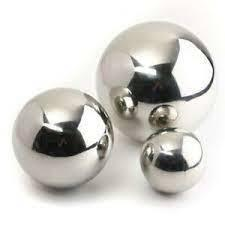steelball: (12, 84, 114, 193)
